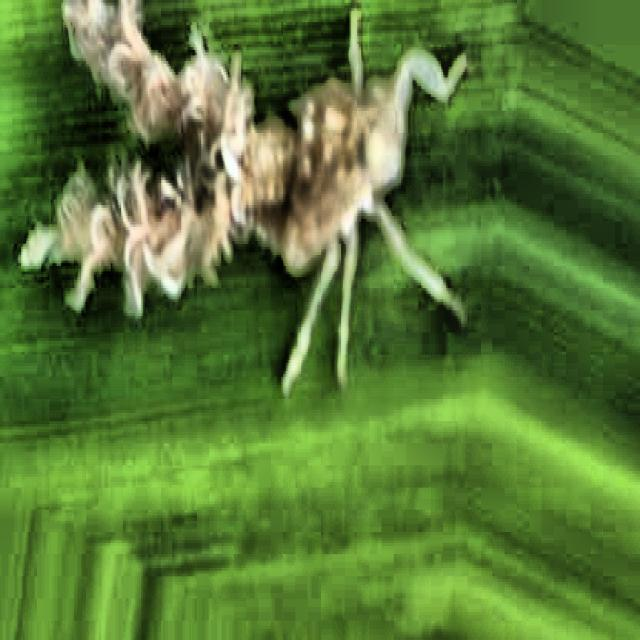Pyrilla-perpusilla: (0, 0, 504, 519)
